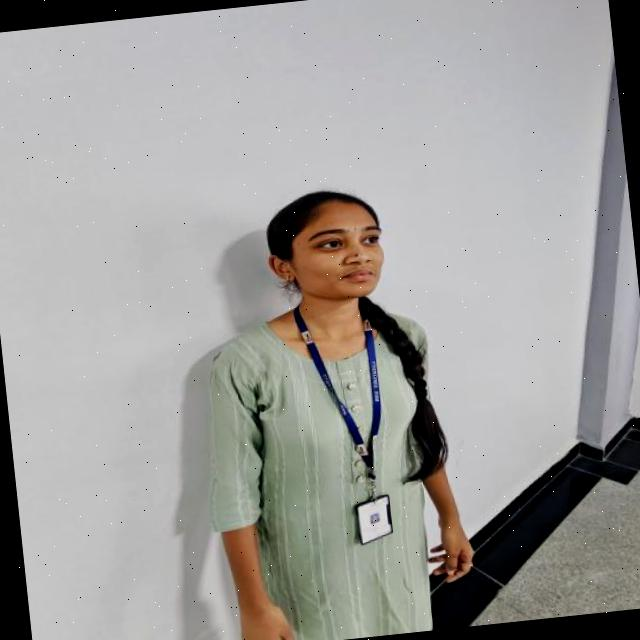Card: (356, 495, 392, 544)
Id strap: (292, 306, 373, 477)
